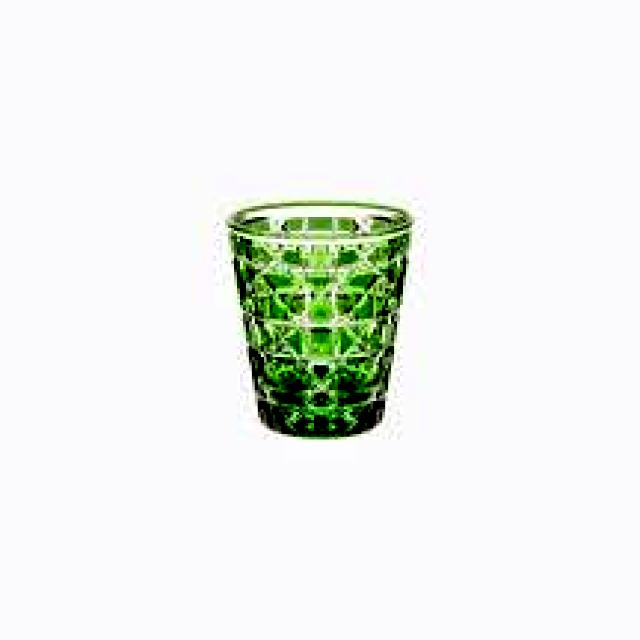Glass: (222, 195, 412, 442)
